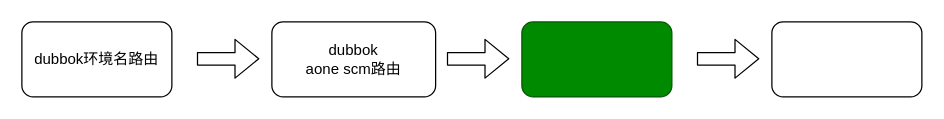
This 944x119 diagram has some shape labels left out. The shapes that lost their labels are listed below. From the top down, each one's box as (x1, y1, x2, y2) in pixels, then its label:
(521, 21, 672, 97): alidubbo3 aone scm路由
(771, 21, 922, 97): 微服务引擎动态路由
